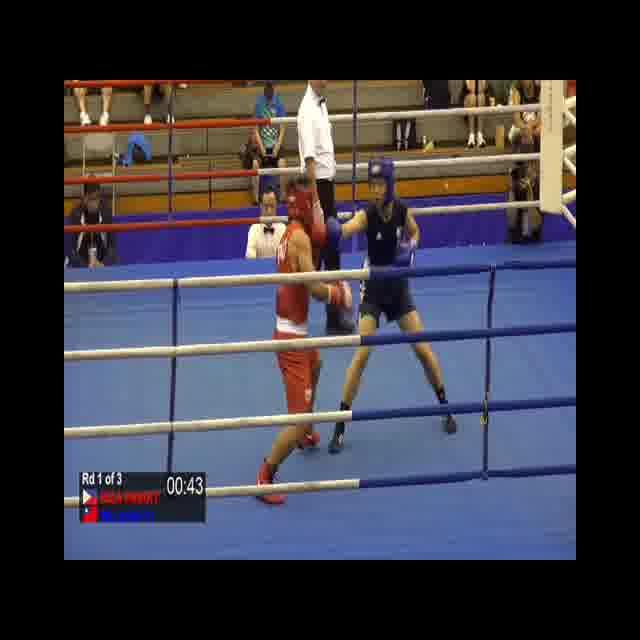blue-player: (324, 152, 460, 457)
red-player: (251, 185, 355, 508)
referee: (291, 80, 359, 339)
